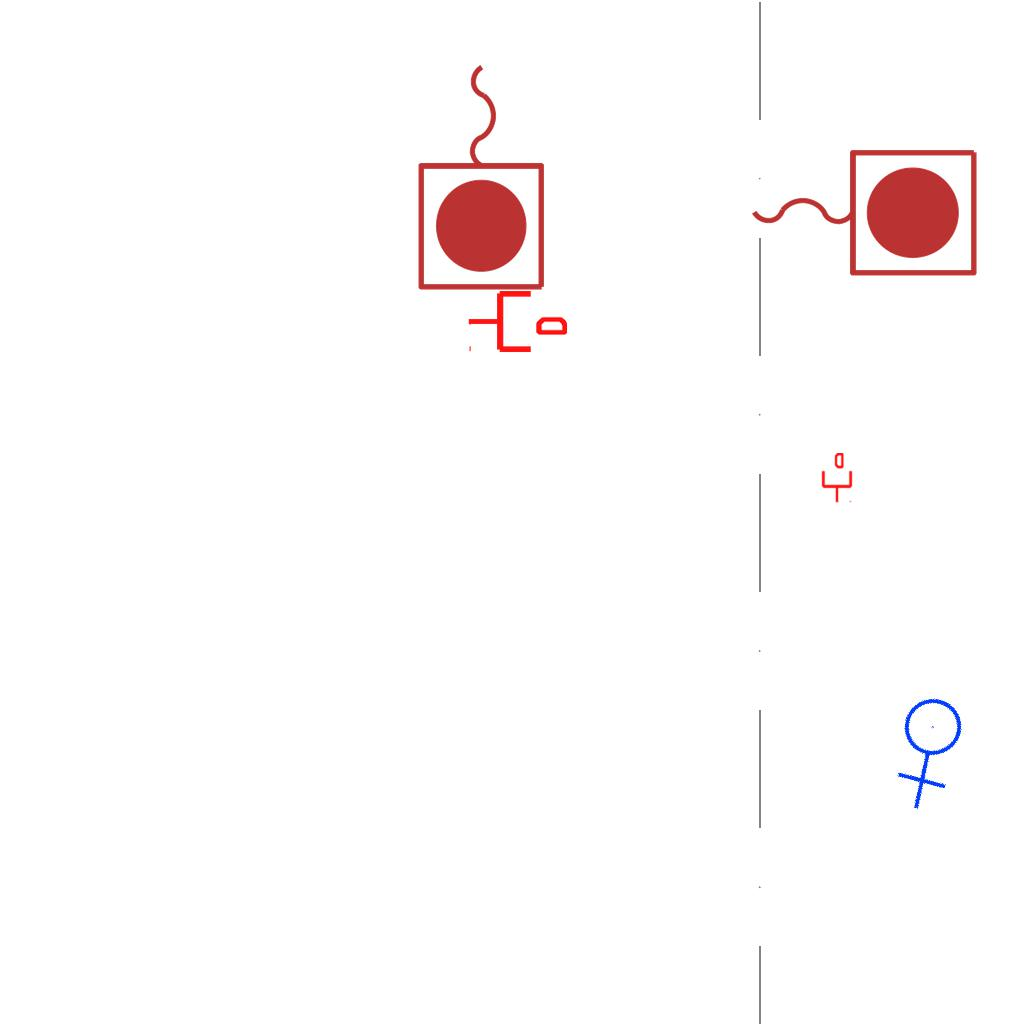Datenanschluss_einfach: (467, 287, 567, 356), (820, 453, 854, 503)
Elektroanschluss_allgemein_230V_Geraeteanschlussdose_230V: (865, 681, 1000, 815)
Zugtaster: (411, 54, 555, 298), (741, 139, 985, 283)
